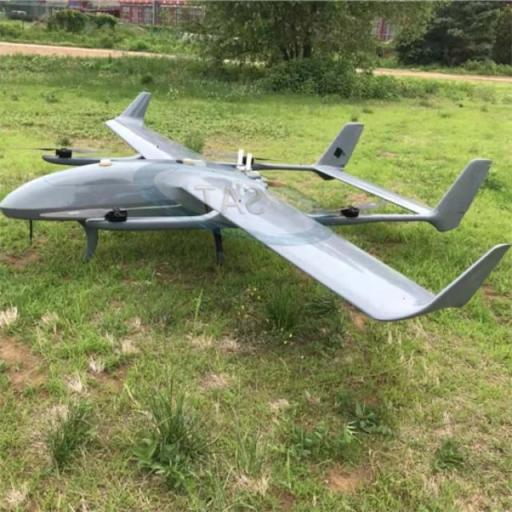uav: (0, 86, 495, 360)
